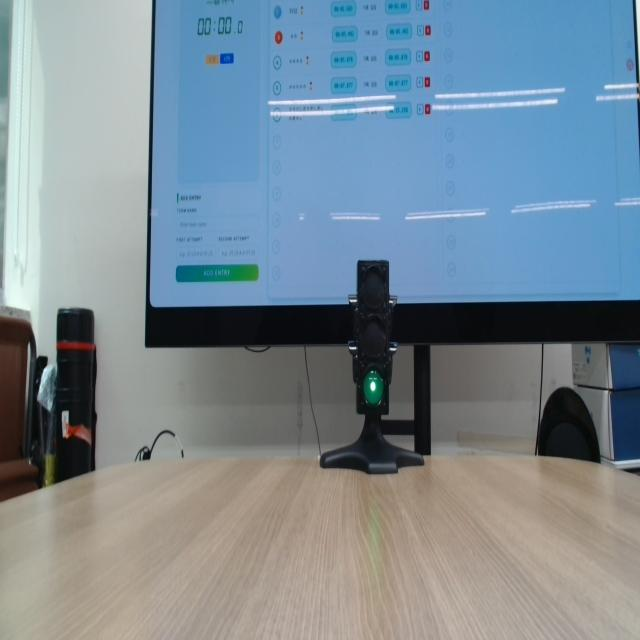green_light: (363, 369, 384, 407)
